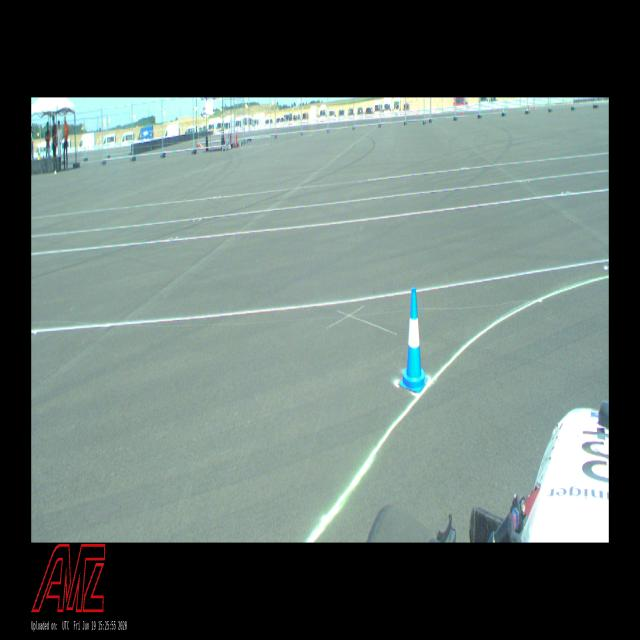blue_cone: (400, 288, 428, 392)
